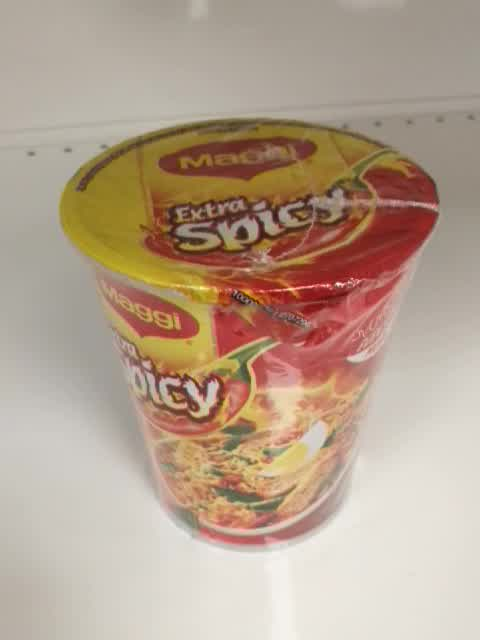maggi: (58, 118, 441, 554)
